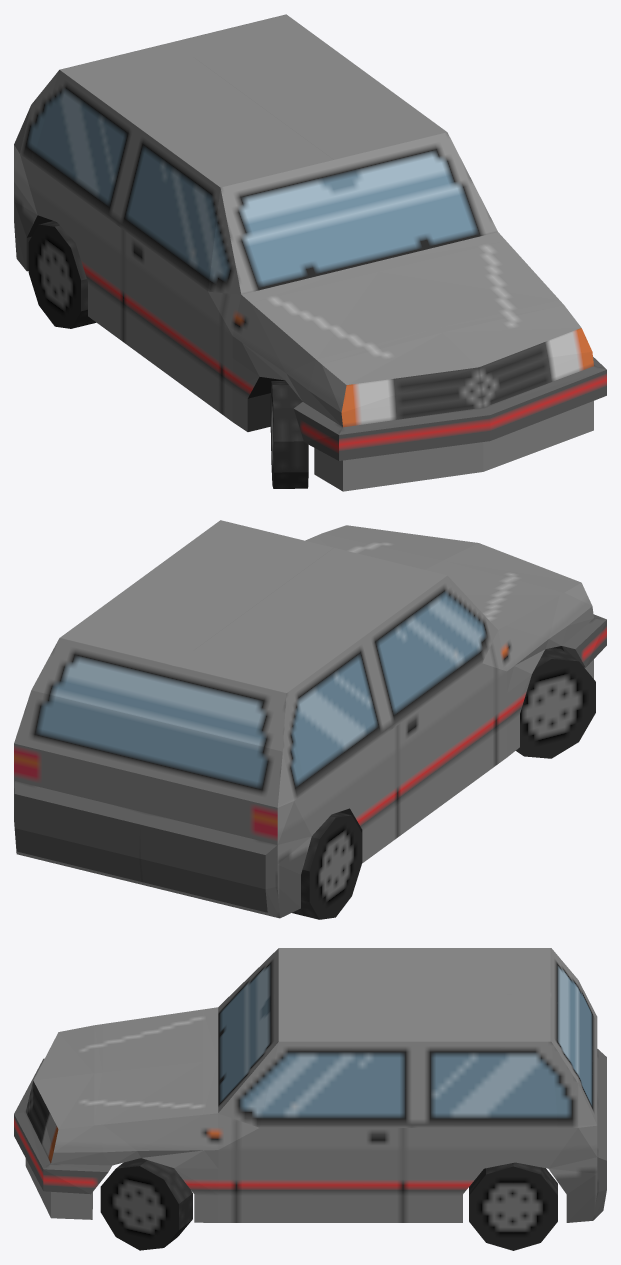
3 renders of one model, top to bottom at view 1: azimuth 30°, elevation 25°; view 2: azimuth 150°, elevation 25°; view 3: azimuth 270°, elevation 25°, orthographic. The views are drawn at different scales.
Visible parts, largest first — view 1: corsa; view 2: corsa; view 3: corsa.
Boxes of the visible parts, bbox=[...] form: corsa: bbox=[14, 14, 606, 491]; corsa: bbox=[14, 520, 606, 919]; corsa: bbox=[14, 948, 606, 1250].
Bounding box in the file's own units: 3.46 × 2.4 × 6.52.
1 material, 1 textured.
